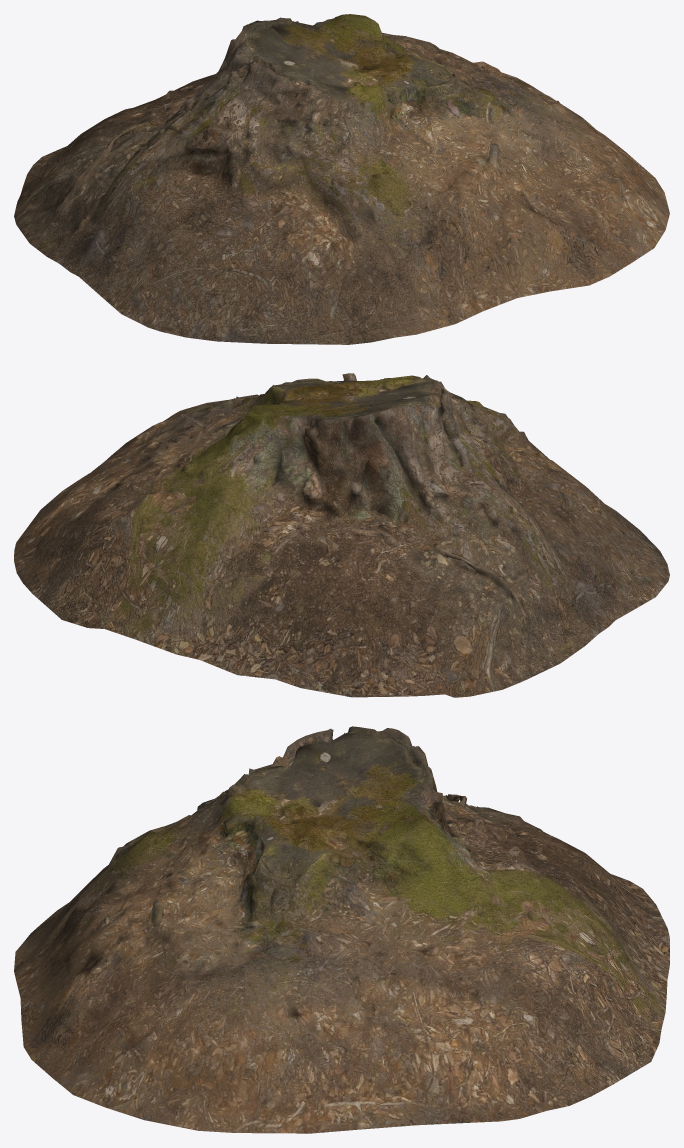
File: tree_stump_02.glb
3 renders of one model, top to bottom at view 1: azimuth 30°, elevation 25°; view 2: azimuth 150°, elevation 25°; view 3: azimuth 270°, elevation 25°, orthographic. The views are drawn at different scales.
Size of the model in its own units: 1.52 by 0.5215 by 1.39.
Materials: 1 (1 with a texture image).
